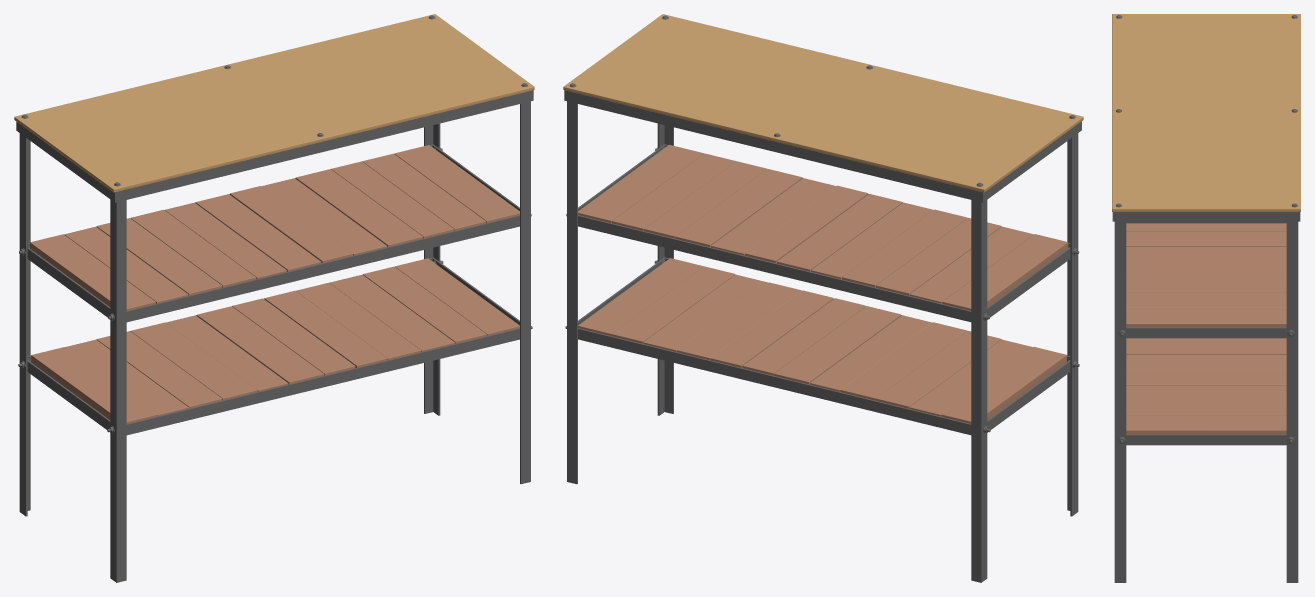
Rendered from uploads_files_2339385_shelf.FBX.
3 views of the same model, side by side, from view 1: azimuth 30°, elevation 25°; view 2: azimuth 150°, elevation 25°; view 3: azimuth 270°, elevation 25° (orthographic). The views are drawn at different scales.
Visible parts, largest first — view 1: shelf; view 2: shelf; view 3: shelf.
Boxes of the visible parts, bbox=[...] form: shelf: bbox=[14, 14, 534, 582]; shelf: bbox=[563, 14, 1083, 582]; shelf: bbox=[1112, 14, 1300, 582].
Size of the model in its own units: 1897 by 1699 by 772.
